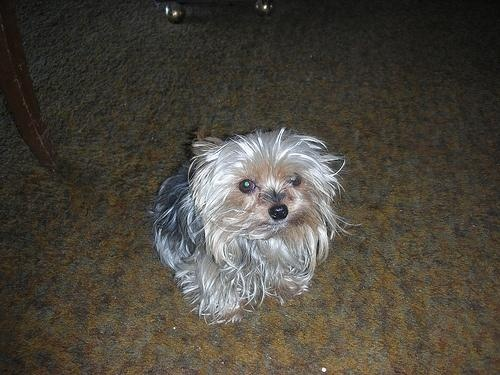dog: (150, 128, 355, 324)
